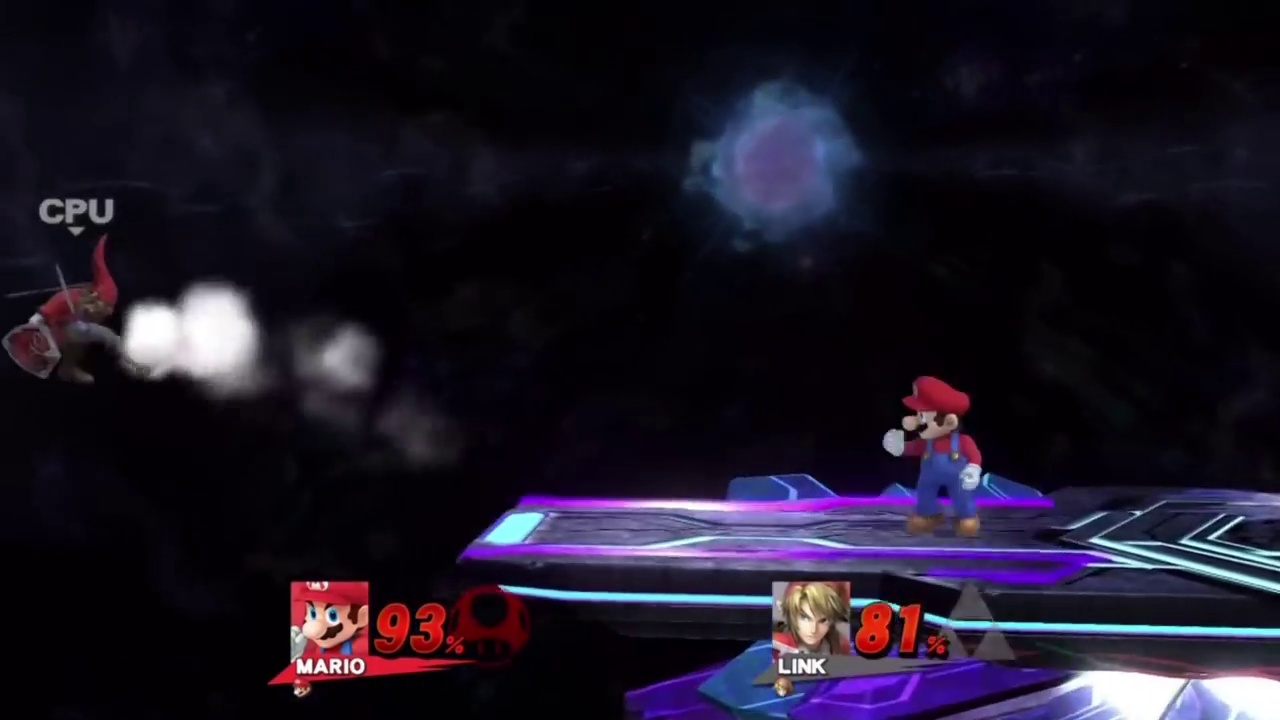Mario: (878, 378, 982, 538)
